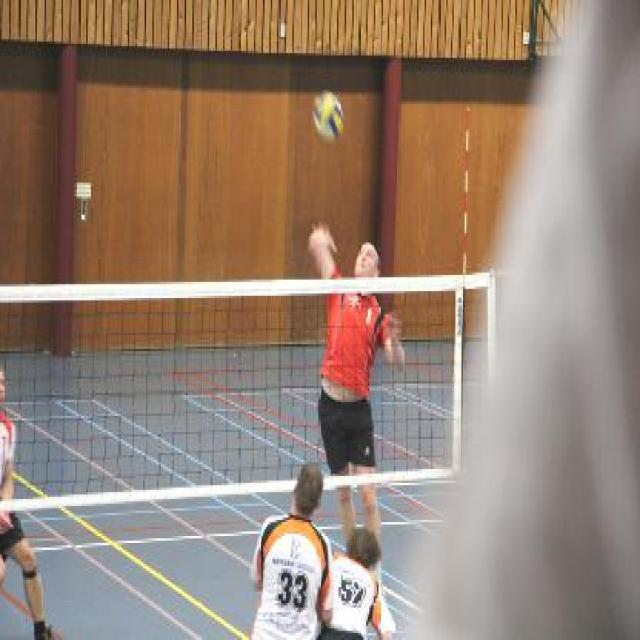volleyball: (312, 90, 344, 146)
